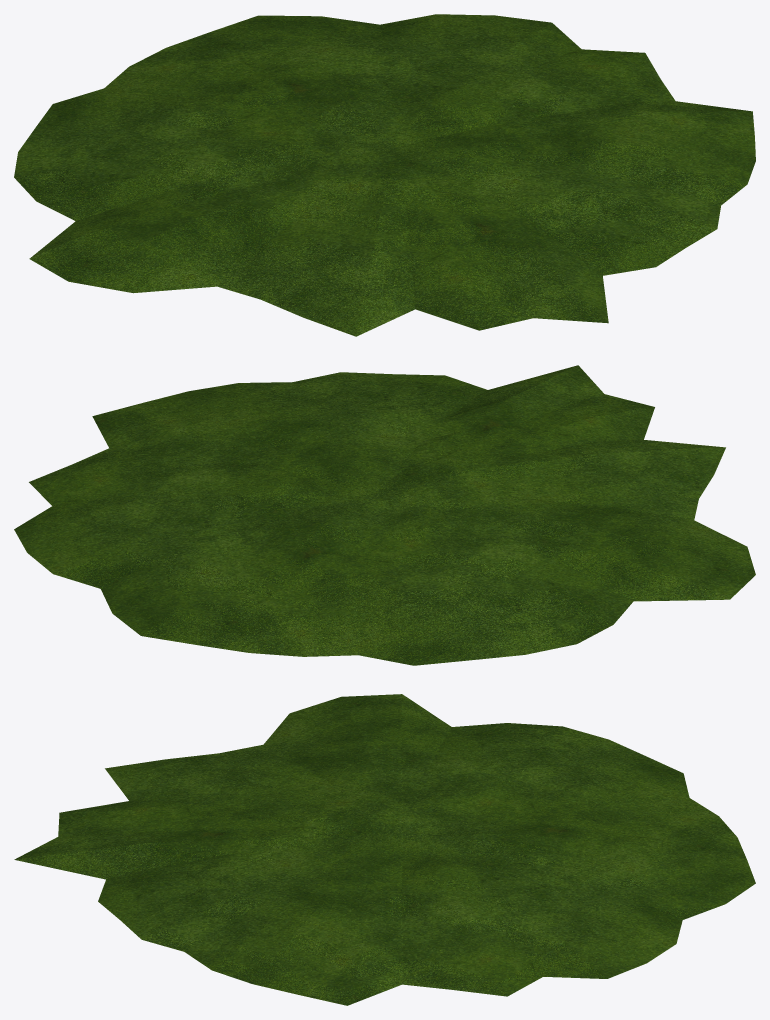
File: feather_moss_v01.fbx
3 renders of one model, top to bottom at view 1: azimuth 30°, elevation 25°; view 2: azimuth 150°, elevation 25°; view 3: azimuth 270°, elevation 25°, orthographic. The views are drawn at different scales.
Visible parts, largest first — view 1: feather_moss_v01; view 2: feather_moss_v01; view 3: feather_moss_v01.
Boxes of the visible parts, x1,y1,x2,y2 form: feather_moss_v01: (14,14,755,336); feather_moss_v01: (14,365,755,665); feather_moss_v01: (14,694,755,1005).
Bounding box in the file's own units: 81.44 × 3.25 × 81.9.
Materials: 1 (1 with a texture image).
